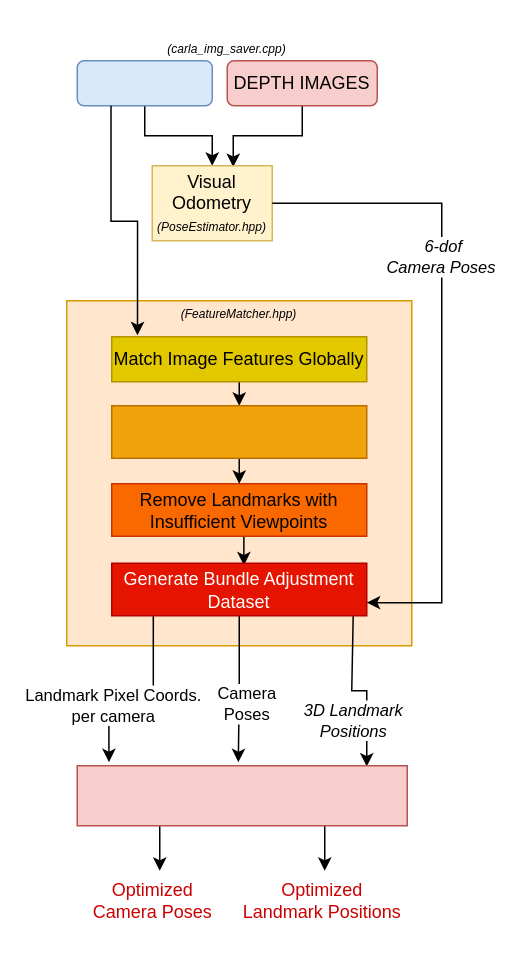
Some shapes in this 527 by 956 pixel diagram are drawn without their labels. Here are the shapes that lost their labels. From the top down, the centre of each, then its label:
At [144,82]: "RGB IMAGES".
At [238,431]: "Prune Matches Via Inverse Check".
At [241,795]: "Bundle Adjustment (BundleAdjuster.hpp)".
